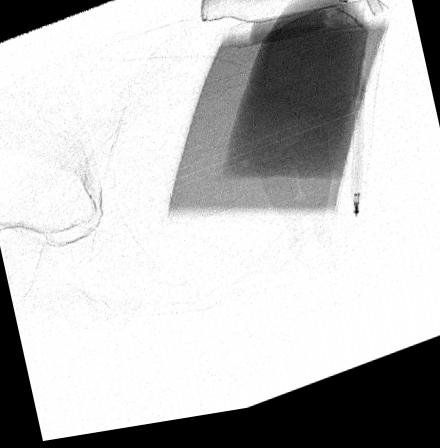Lighter: (360, 0, 384, 28)
